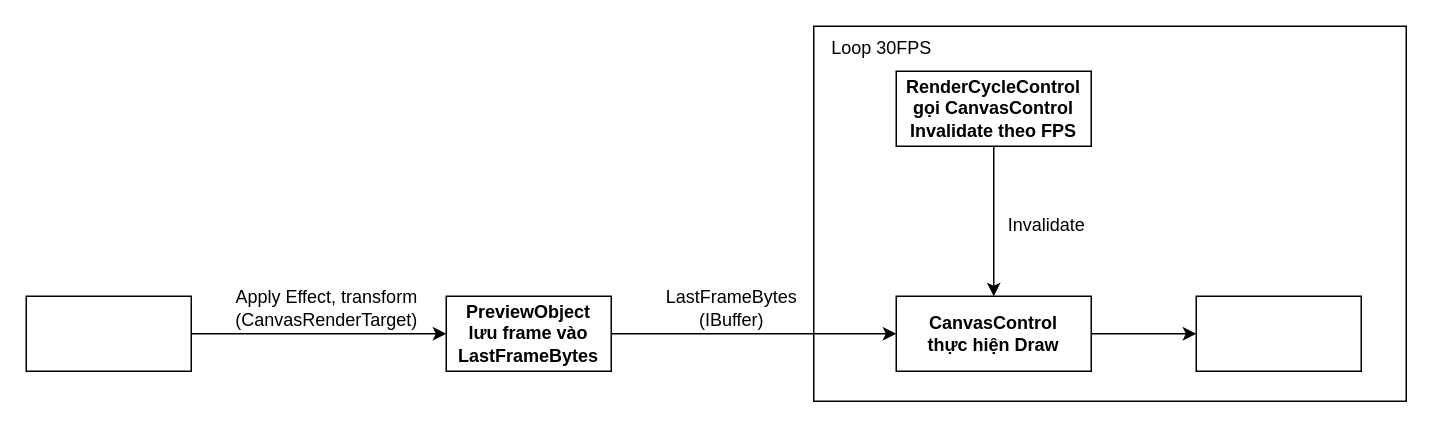
Some shapes in this 1433 by 428 pixel diagram are drawn without their labels. The shapes that lost their labels are listed below. From the top down, each one's box as (x1, y1, x2, y2) in pixels, then its label:
(25, 295, 191, 371): MediaPlayer chuẩn bị Frame
(1195, 295, 1361, 371): GPU thực hiện render hình ảnh
